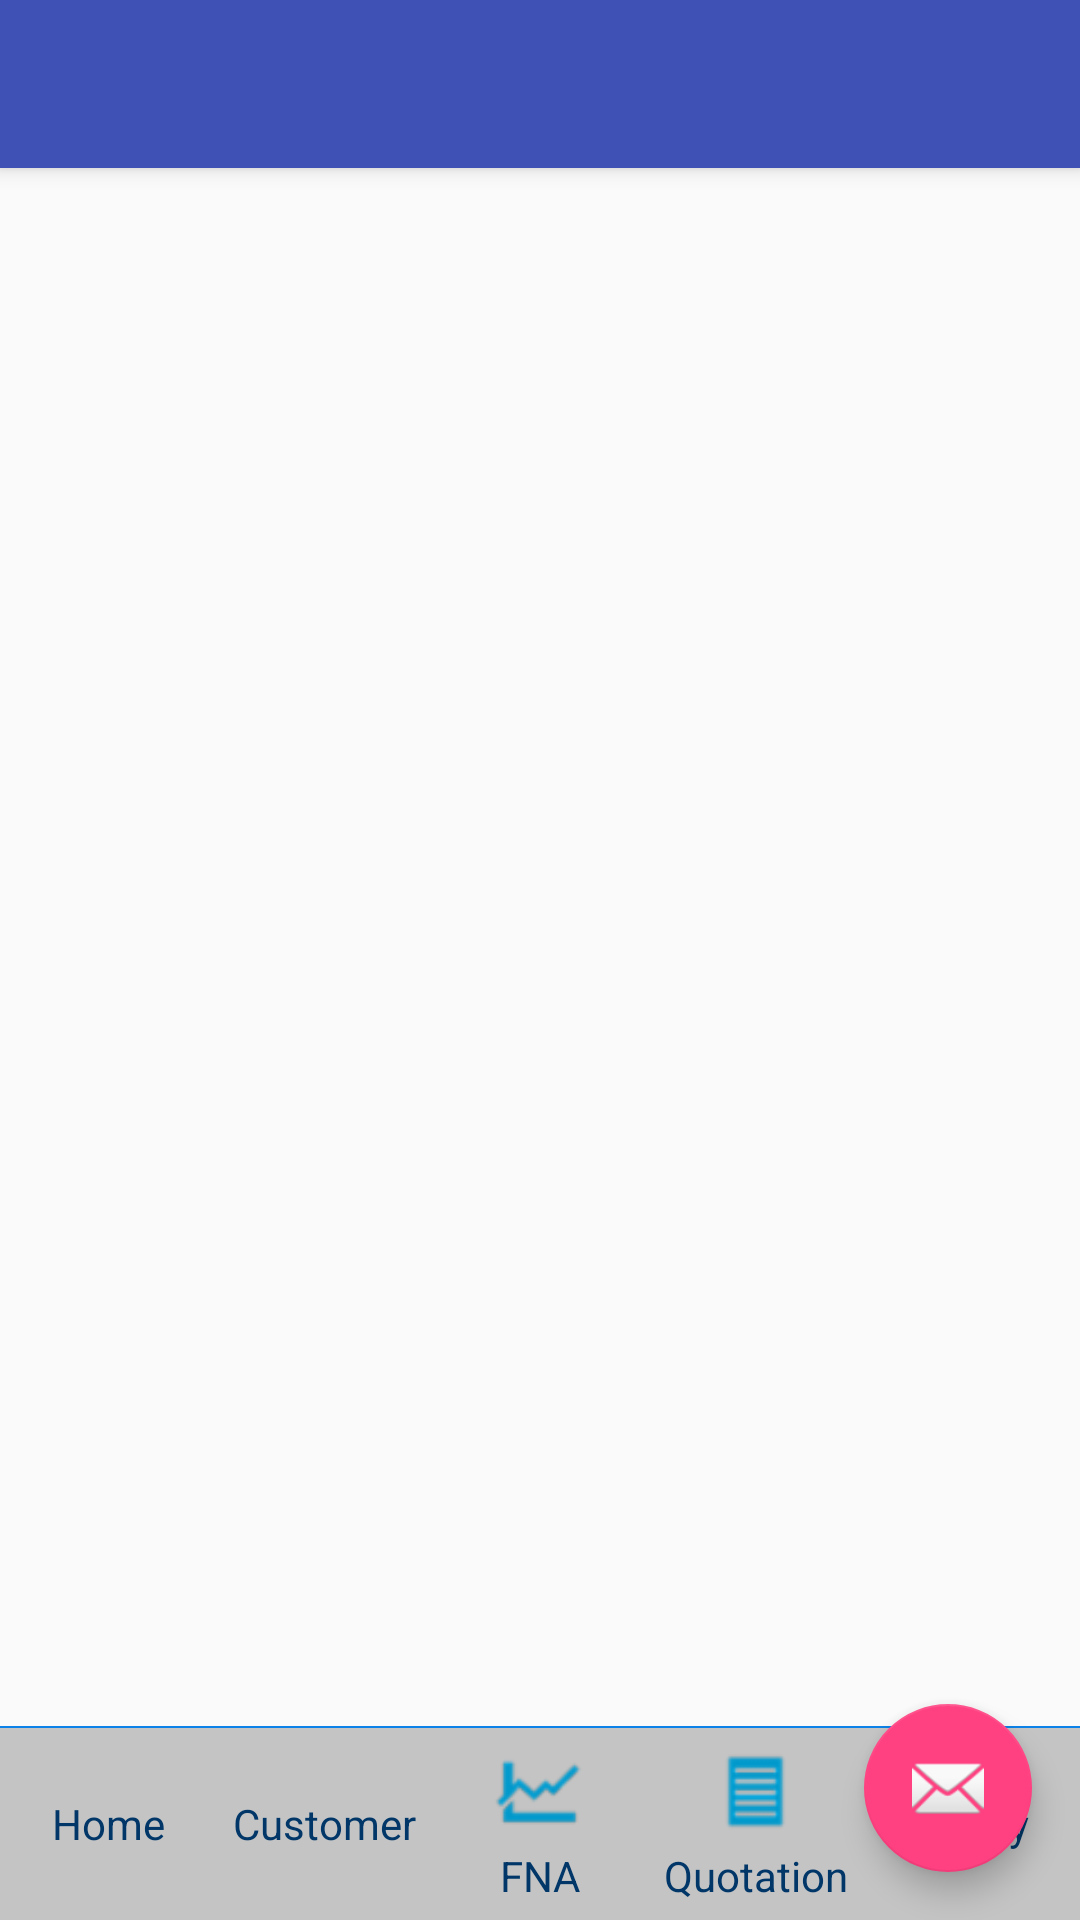

Point at icon controls on the screen. Image size 1080×1920, points as [x,y].
email: [948,1788]
